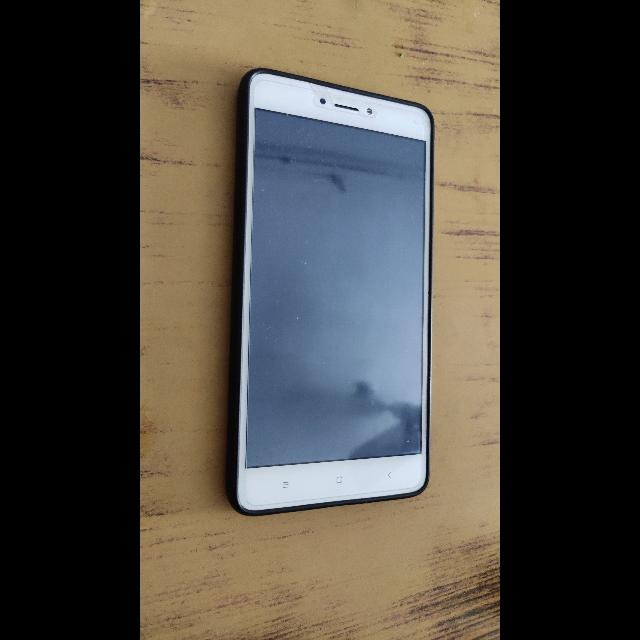Smartphone: (174, 100, 436, 510)
